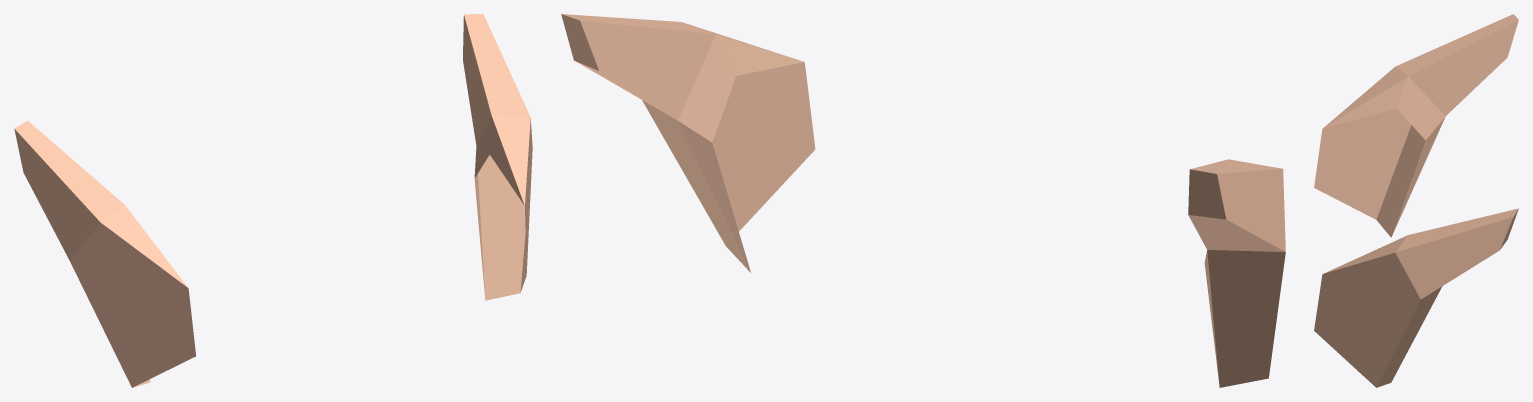
Rendered from Chr_Ear_Ear_02_Static.fbx.
3 views of the same model, side by side, from view 1: azimuth 30°, elevation 25°; view 2: azimuth 150°, elevation 25°; view 3: azimuth 270°, elevation 25° (orthographic). The views are drawn at different scales.
Visible parts, largest first — view 1: Chr_Ear_Ear_02_Static; view 2: Chr_Ear_Ear_02_Static; view 3: Chr_Ear_Ear_02_Static.
Part boxes in pixels (bbox=[...]): Chr_Ear_Ear_02_Static: bbox=[14, 14, 532, 387]; Chr_Ear_Ear_02_Static: bbox=[561, 14, 1285, 387]; Chr_Ear_Ear_02_Static: bbox=[1314, 14, 1518, 387].
Bounding box in the file's own units: 0.3045 × 0.1373 × 0.13.
